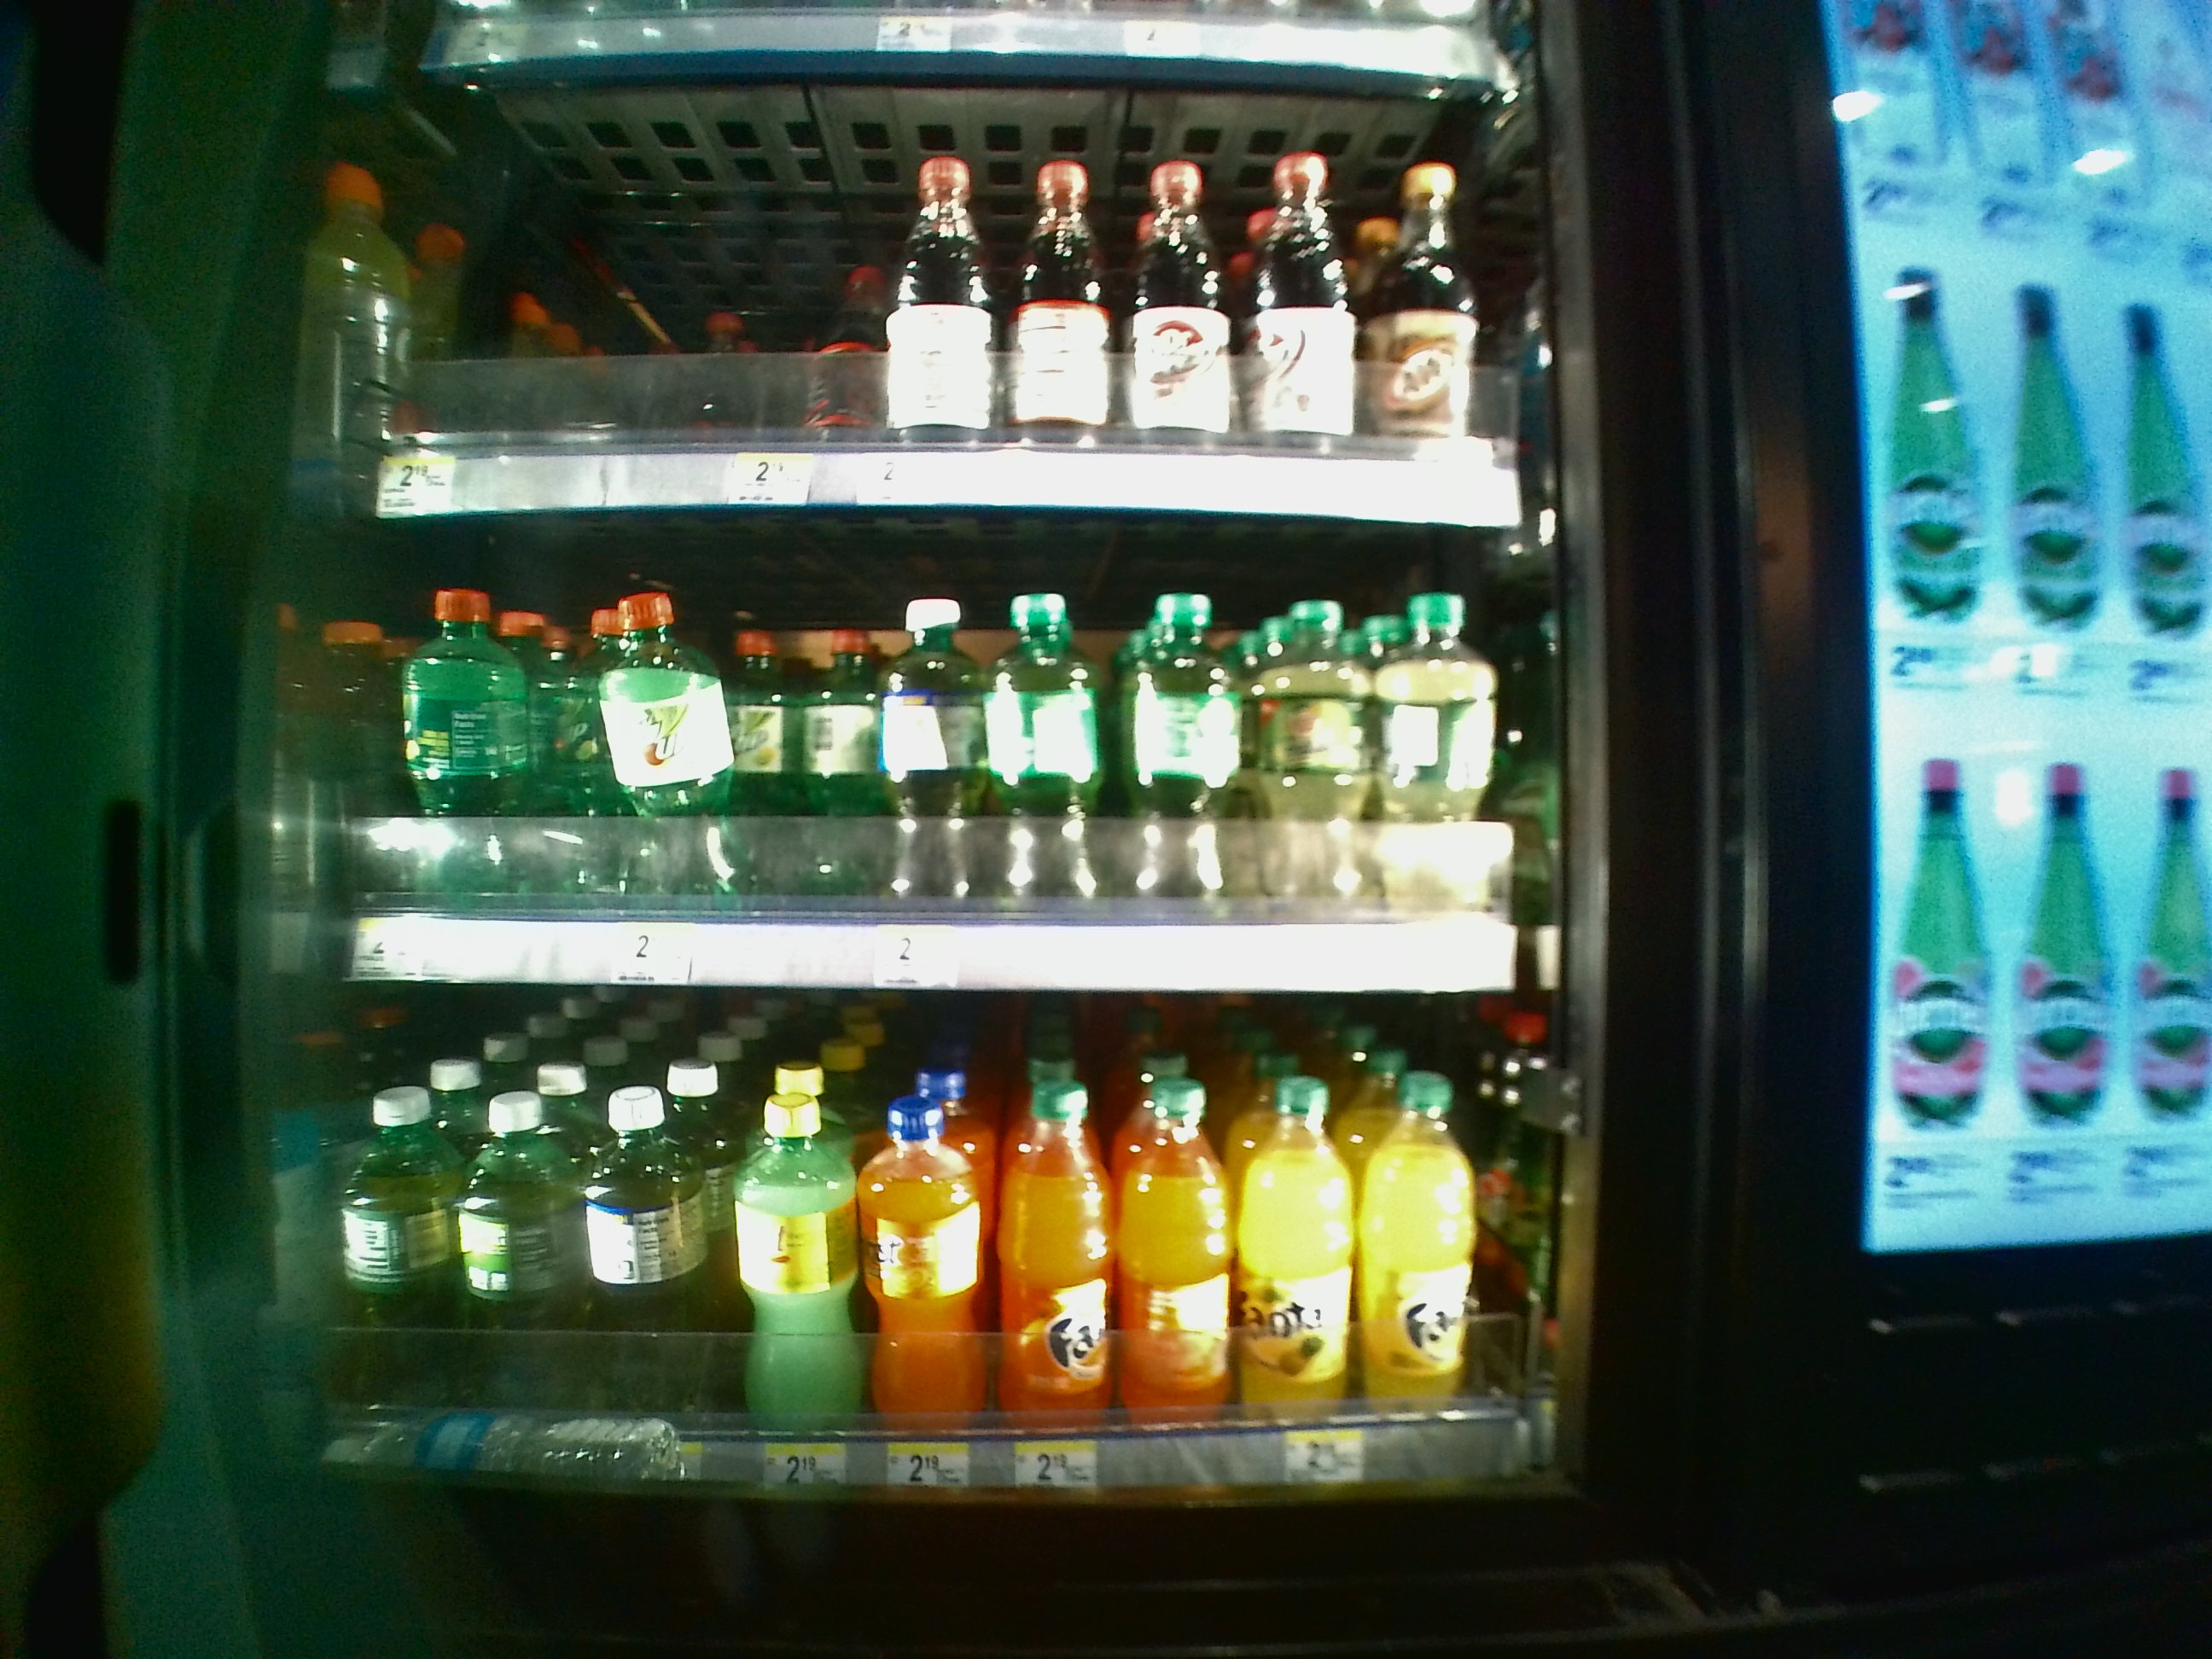Shelf: (319, 995, 1575, 1497), (334, 518, 1571, 993)
